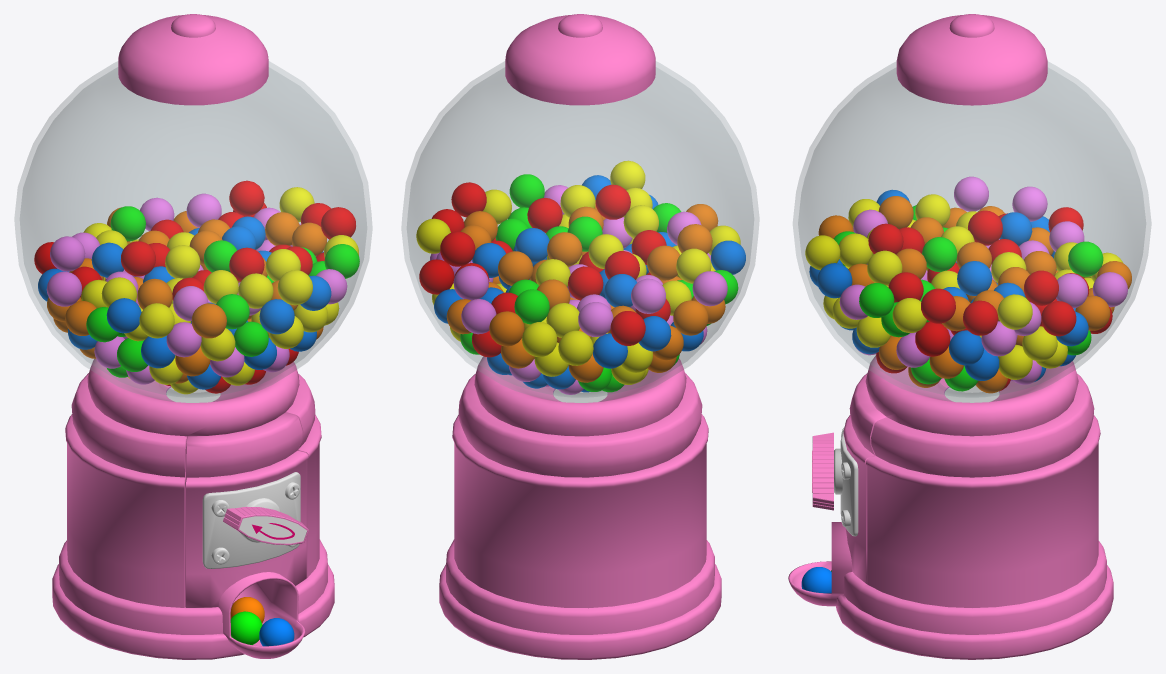
File: bubblegum.glb
The picture shows the model from 3 angles, left to right: view 1: azimuth 30°, elevation 25°; view 2: azimuth 150°, elevation 25°; view 3: azimuth 270°, elevation 25°; orthographic projection.
Visible parts, largest first — view 1: CandyMachine_GlassBowl, CandyMachine_Body, CandyMachine_TopCover, CandyMachine_MetalPlate, CandyMachine_Dispencer, CandyMachine_Switch, Candy_Yellow.038, Candy_Pink.019, Candy_Red.013, Candy_Orange.014, Candy_Pink.025, Candy_Yellow.032 (+43 smaller); view 2: CandyMachine_GlassBowl, CandyMachine_Body, CandyMachine_TopCover, Candy_Yellow.030, Candy_Orange.016, Candy_Pink.019, Candy_Red.013, Candy_Orange.042, Candy_Red.031, Candy_Yellow.035, Candy_Pink.025, Candy_Red.014 (+44 smaller); view 3: CandyMachine_GlassBowl, CandyMachine_Body, CandyMachine_TopCover, CandyMachine_Dispencer, CandyMachine_MetalPlate, CandyMachine_Switch, Candy_Yellow.007, Candy_Red.027, Candy_Red.011, Candy_Green.015, Candy_Red.013, Candy_Red.018 (+40 smaller).
Boxes of the visible parts, left/top/right/bottom form: CandyMachine_GlassBowl: left=14, top=61, right=372, bottom=402; CandyMachine_Body: left=52, top=359, right=334, bottom=659; CandyMachine_TopCover: left=118, top=14, right=268, bottom=105; CandyMachine_MetalPlate: left=202, top=472, right=300, bottom=568; CandyMachine_Dispencer: left=218, top=572, right=305, bottom=658; CandyMachine_Switch: left=223, top=506, right=308, bottom=545; Candy_Yellow.038: left=139, top=303, right=174, bottom=338; Candy_Pink.019: left=46, top=271, right=81, bottom=306; Candy_Red.013: left=229, top=180, right=264, bottom=215; Candy_Orange.014: left=191, top=303, right=226, bottom=338; Candy_Pink.025: left=50, top=236, right=85, bottom=271; Candy_Yellow.032: left=277, top=270, right=312, bottom=305; CandyMachine_GlassBowl: left=401, top=61, right=759, bottom=402; CandyMachine_Body: left=439, top=356, right=721, bottom=659; CandyMachine_TopCover: left=505, top=14, right=655, bottom=105; Candy_Yellow.030: left=558, top=330, right=593, bottom=365; Candy_Orange.016: left=673, top=300, right=708, bottom=335; Candy_Pink.019: left=692, top=271, right=727, bottom=306; Candy_Red.013: left=440, top=231, right=475, bottom=266; Candy_Orange.042: left=489, top=311, right=524, bottom=346; Candy_Red.031: left=610, top=311, right=645, bottom=345; Candy_Yellow.035: left=522, top=322, right=557, bottom=357; Candy_Pink.025: left=631, top=278, right=665, bottom=313; Candy_Red.014: left=595, top=184, right=630, bottom=219; CandyMachine_GlassBowl: left=793, top=62, right=1151, bottom=402; CandyMachine_Body: left=836, top=355, right=1113, bottom=659; CandyMachine_TopCover: left=896, top=14, right=1047, bottom=105; CandyMachine_Dispencer: left=788, top=522, right=852, bottom=606; CandyMachine_MetalPlate: left=834, top=429, right=858, bottom=536; CandyMachine_Switch: left=812, top=432, right=833, bottom=510; Candy_Yellow.007: left=997, top=294, right=1032, bottom=329; Candy_Red.027: left=1041, top=301, right=1076, bottom=336; Candy_Red.011: left=963, top=300, right=998, bottom=335; Candy_Green.015: left=859, top=283, right=894, bottom=317; Candy_Red.013: left=1024, top=270, right=1058, bottom=305; Candy_Red.018: left=921, top=288, right=955, bottom=323.
Bounding box in the file's own units: 27.65 × 49.49 × 27.98.
Materials: 5 (2 with a texture image).
